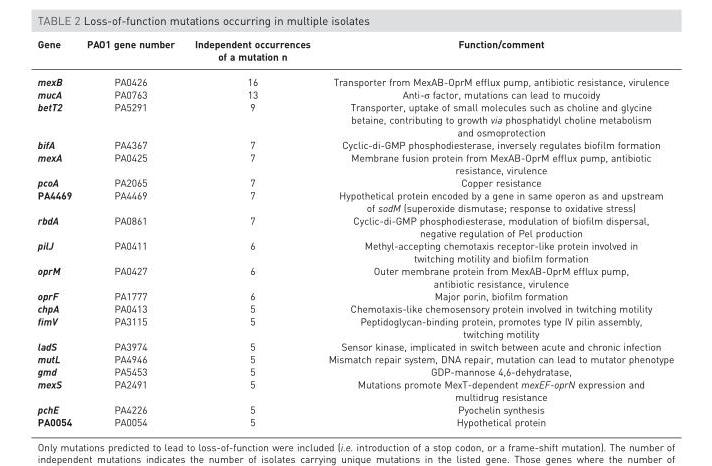table: (36, 37, 673, 427)
table column: (318, 37, 673, 427), (183, 37, 318, 427), (78, 37, 183, 427), (36, 37, 78, 427)
table column header: (36, 37, 673, 68)
table row: (36, 100, 673, 137), (36, 37, 673, 68), (36, 150, 673, 175), (36, 188, 673, 213), (36, 213, 673, 238), (36, 238, 673, 263), (36, 263, 673, 288), (36, 314, 673, 339), (36, 377, 673, 402), (36, 68, 673, 87), (36, 87, 673, 100), (36, 137, 673, 150), (36, 175, 673, 188), (36, 288, 673, 301), (36, 301, 673, 314), (36, 351, 673, 364), (36, 364, 673, 377), (36, 414, 673, 427), (36, 339, 673, 351), (36, 402, 673, 414)
